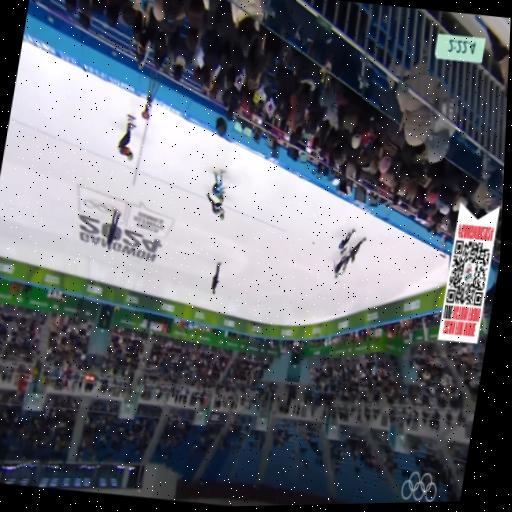Skater: (118, 115, 135, 159), (212, 170, 225, 202), (208, 193, 224, 219), (349, 238, 366, 261), (340, 229, 354, 255), (334, 258, 343, 277), (342, 255, 350, 271)
